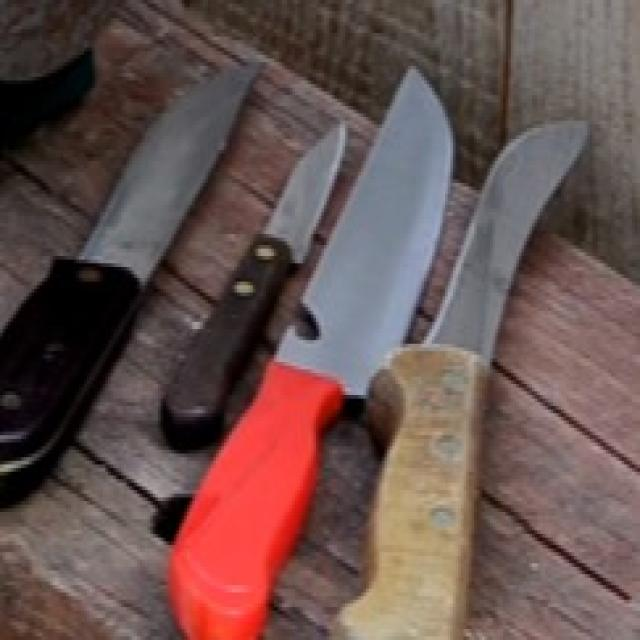knives: (105, 16, 255, 333), (263, 80, 350, 294)
